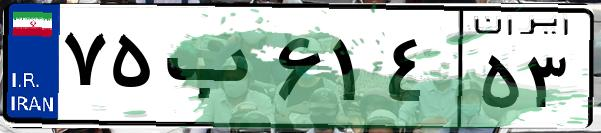1: (330, 28, 385, 110)
3: (525, 38, 570, 115)
4: (385, 28, 445, 110)
5: (475, 38, 525, 113), (110, 28, 158, 98)
6: (270, 28, 330, 110)
7: (57, 26, 110, 100)
ب: (158, 20, 270, 120)
